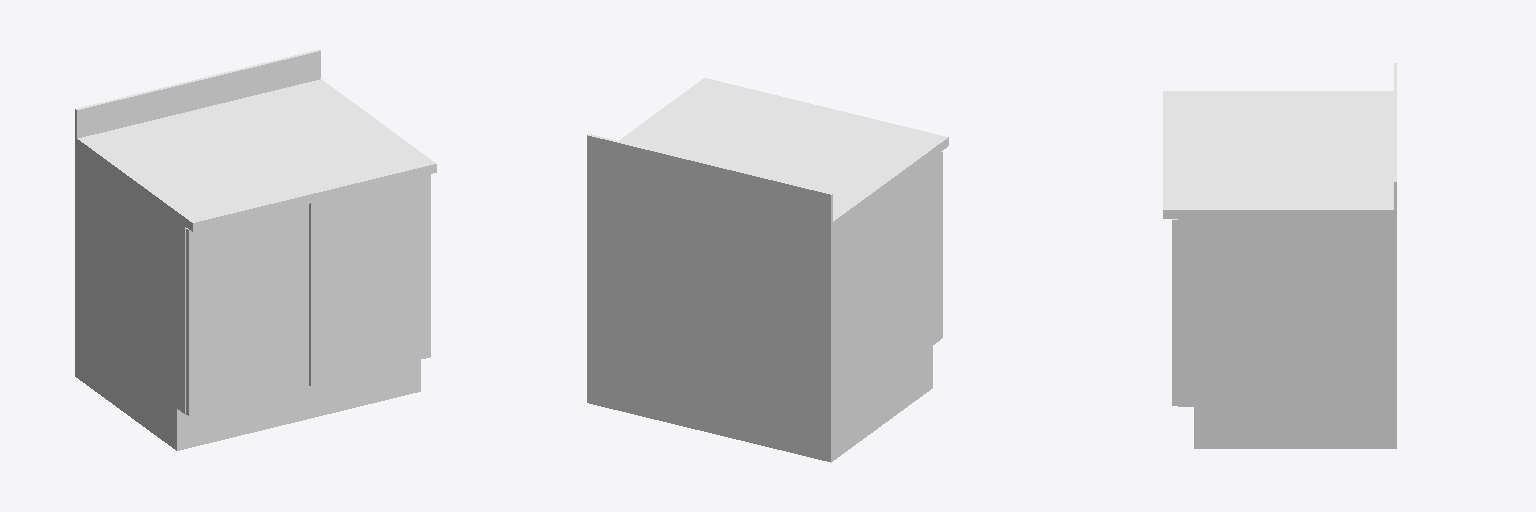
The model's file is color_2_asset_2_1.obj.
The picture shows the model from 3 angles: view 1: azimuth 30°, elevation 25°; view 2: azimuth 150°, elevation 25°; view 3: azimuth 270°, elevation 25°; orthographic projection.
Parts seen in each view (by area): view 1: Body_1, Body_2; view 2: Body_1, Body_2; view 3: Body_1, Body_2.
Part boxes in pixels (bbox=[...]): Body_1: bbox=[75, 146, 430, 450]; Body_2: bbox=[75, 49, 436, 231]; Body_1: bbox=[587, 151, 942, 462]; Body_2: bbox=[587, 78, 948, 231]; Body_1: bbox=[1172, 219, 1396, 448]; Body_2: bbox=[1163, 63, 1396, 218].
Size of the model in its own units: 0.9144 by 0.9589 by 0.762.